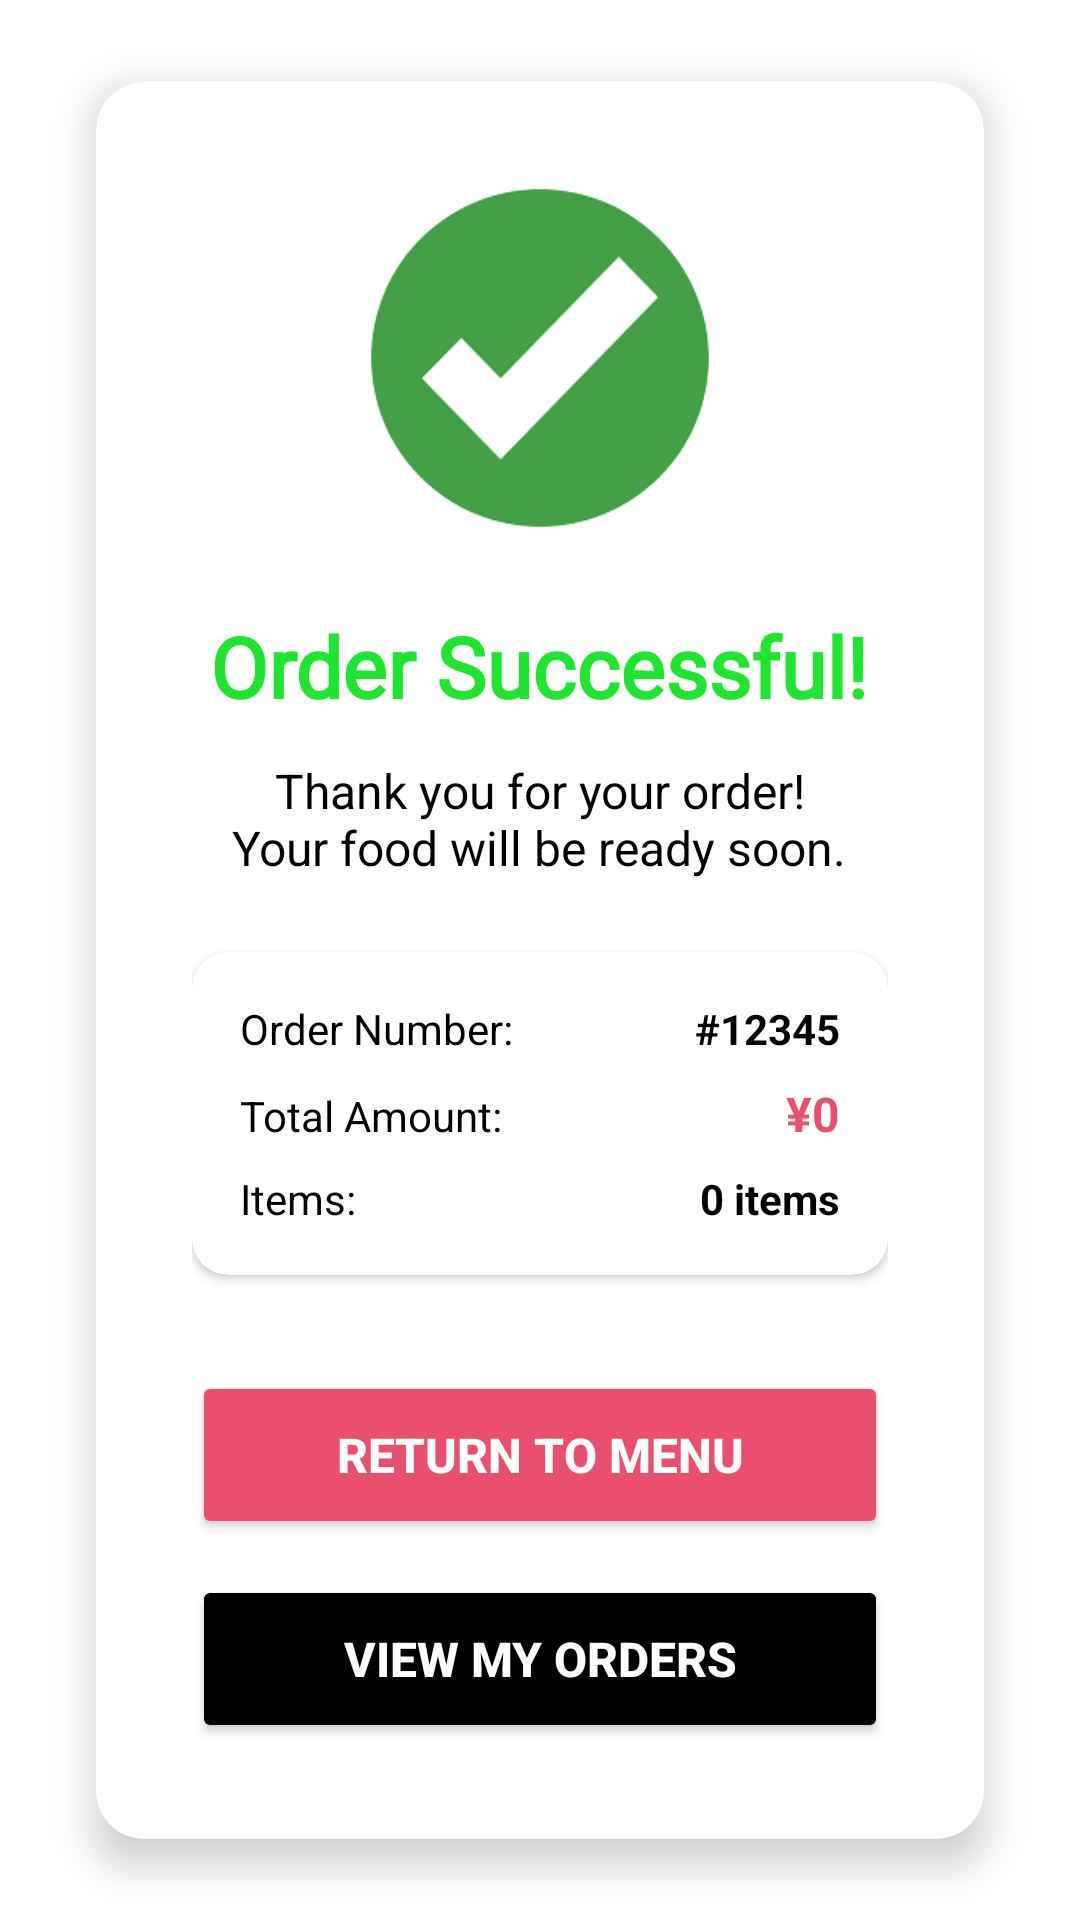

Where icons sit on this 1080 × 1920 app screen, as (x1,y1,x2,y2):
tick: (371,189,709,527)
